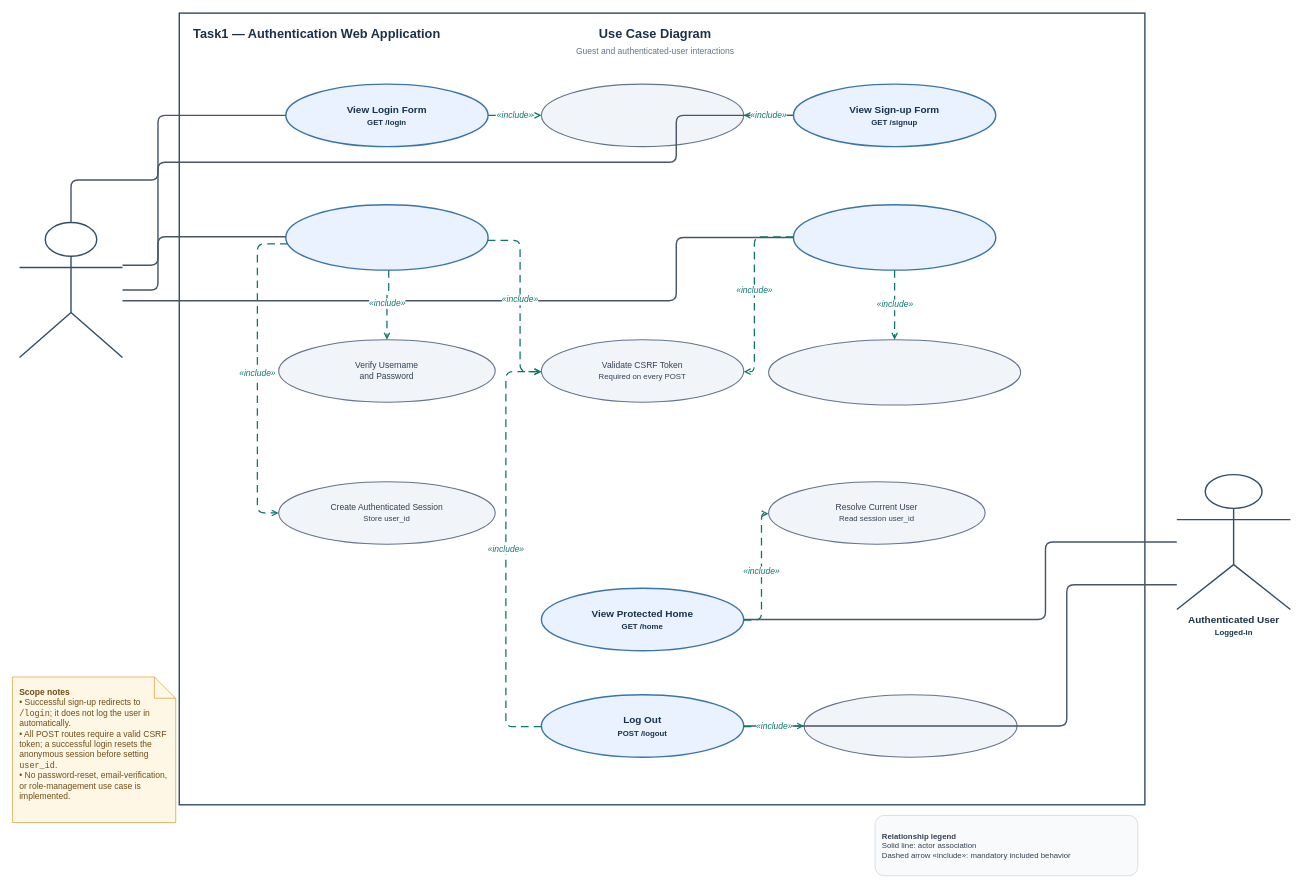
Image size: 1304x888. Some labels were removed from this diagram. The centre of each missing label's shape, as x and y in pixels:
"Clear Session Remove user_id and CSRF data" goes at (910,725).
"Display Registered User Count" goes at (642,115).
"Log In POST /login" goes at (386,237).
"Register Account POST /signup" goes at (894,237).
"Validate Registration Data 3–20 char username; 8–128 char password" goes at (894,372).
"Visitor Unauthenticated" goes at (70,290).
